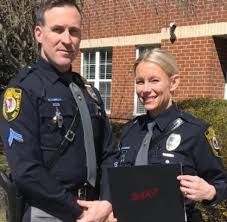uniform: (5, 61, 111, 212), (118, 102, 216, 193)
